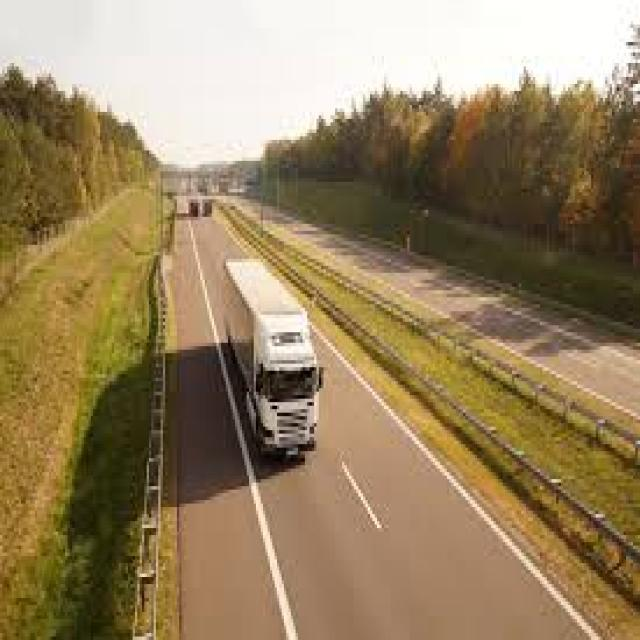covered: (216, 252, 324, 458)
